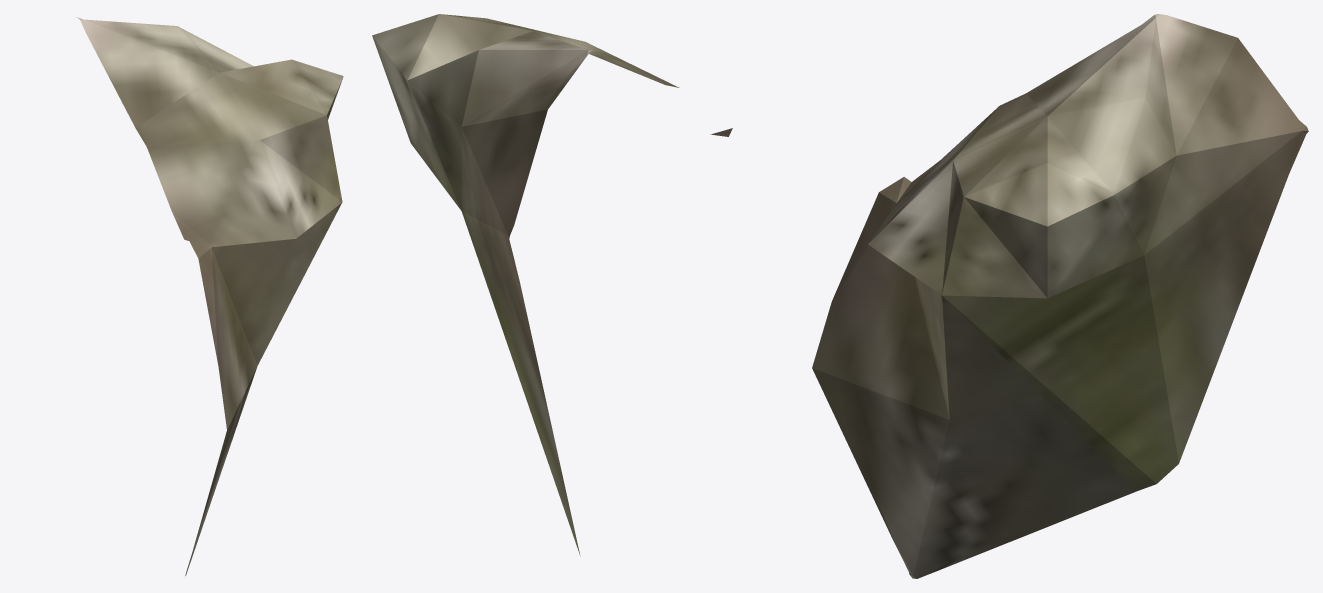
The picture shows the model from 3 angles, left to right: view 1: azimuth 30°, elevation 25°; view 2: azimuth 150°, elevation 25°; view 3: azimuth 270°, elevation 25°; orthographic projection. The views are drawn at different scales.
Bounding box in the file's own units: 0.2318 × 0.4925 × 0.3926.
Materials: 1 (1 with a texture image).
